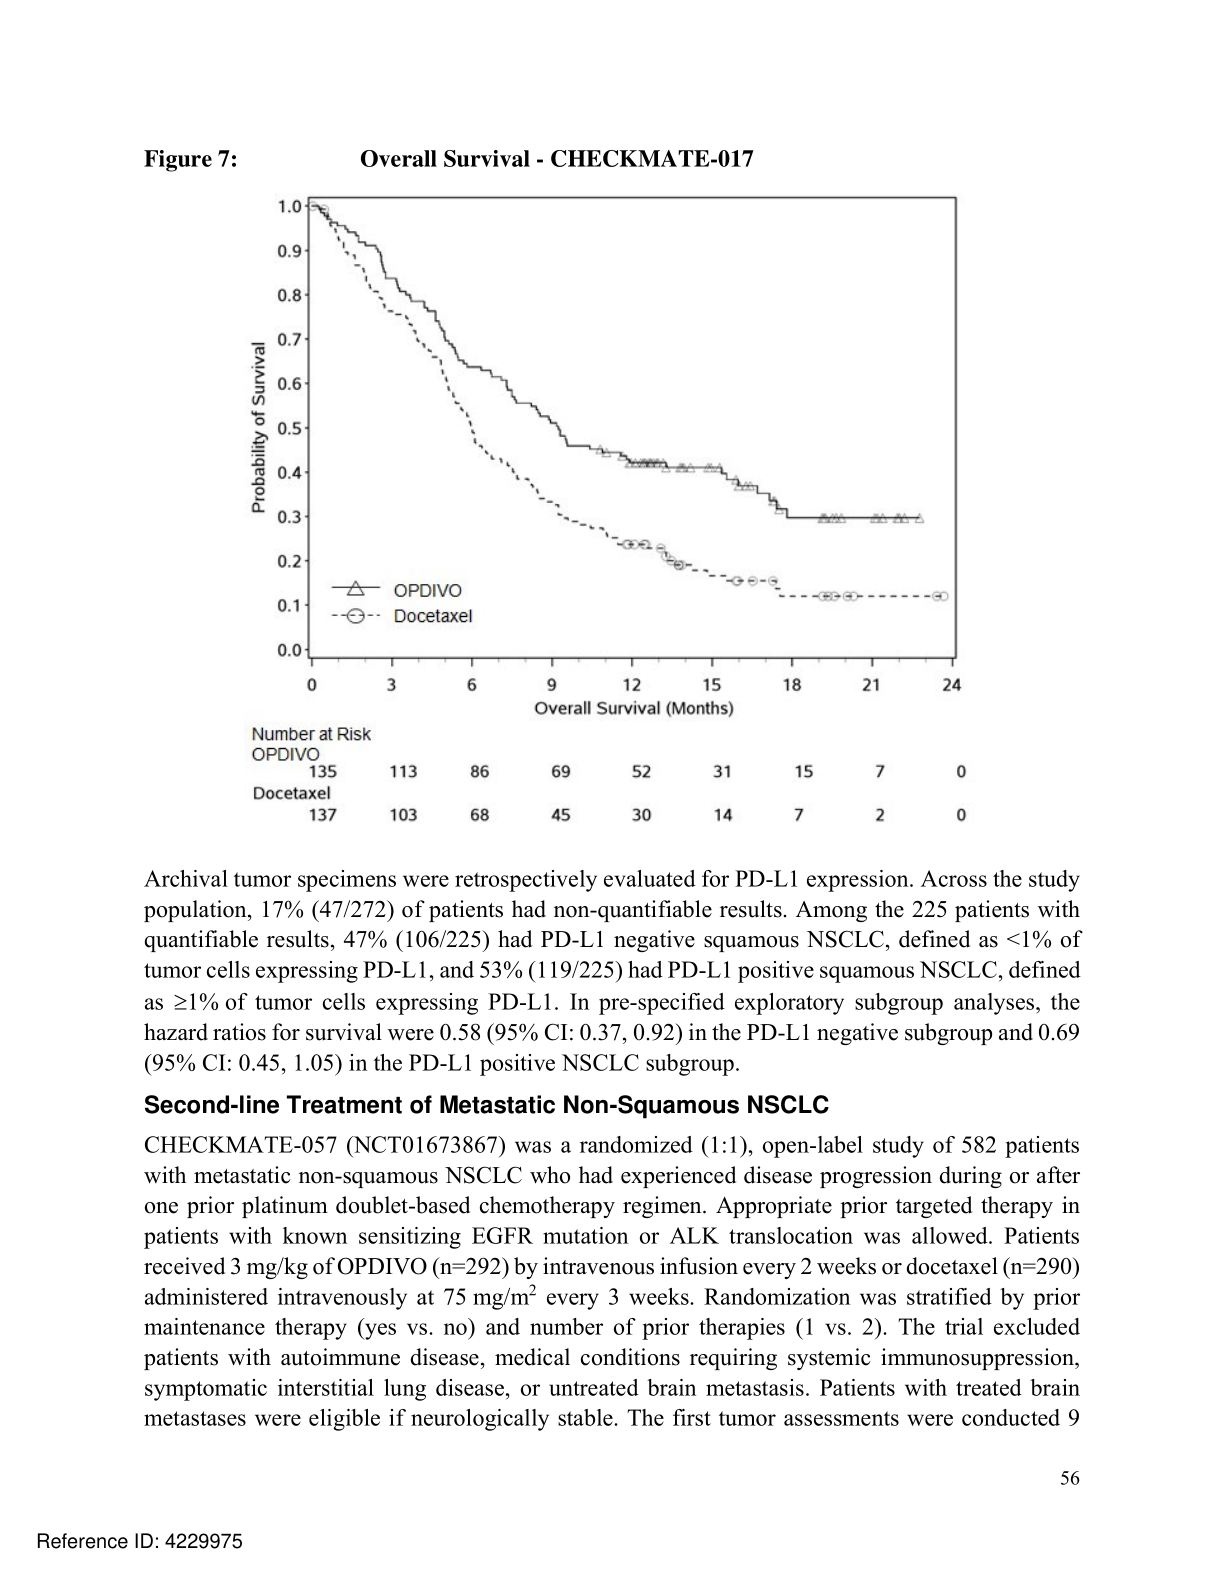nolines: (247, 723, 969, 825)
